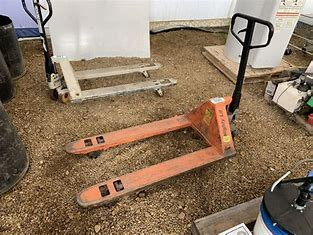Pallet Jack: (59, 10, 275, 209), (20, 1, 180, 105)
